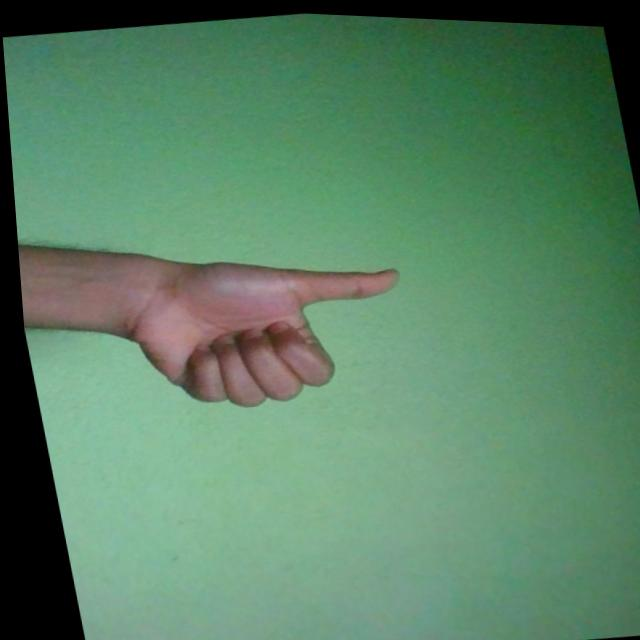Good Job: (103, 233, 417, 426)
